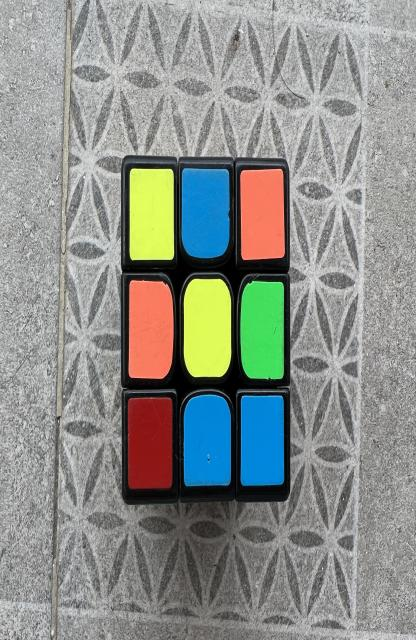Blue: (181, 168, 230, 258), (184, 395, 231, 487), (240, 395, 284, 487)
Green: (240, 280, 284, 380)
Orange: (128, 280, 174, 378), (240, 168, 285, 260)
Red: (128, 398, 172, 490)
Yellow: (184, 278, 232, 378), (129, 168, 175, 260)
